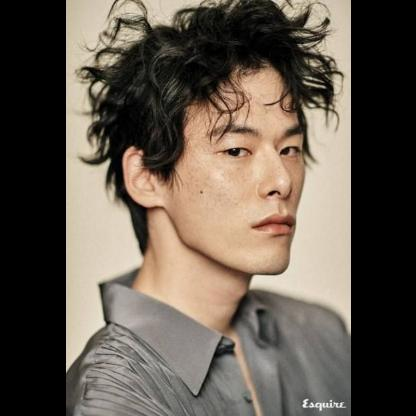Male: (126, 61, 306, 273)
